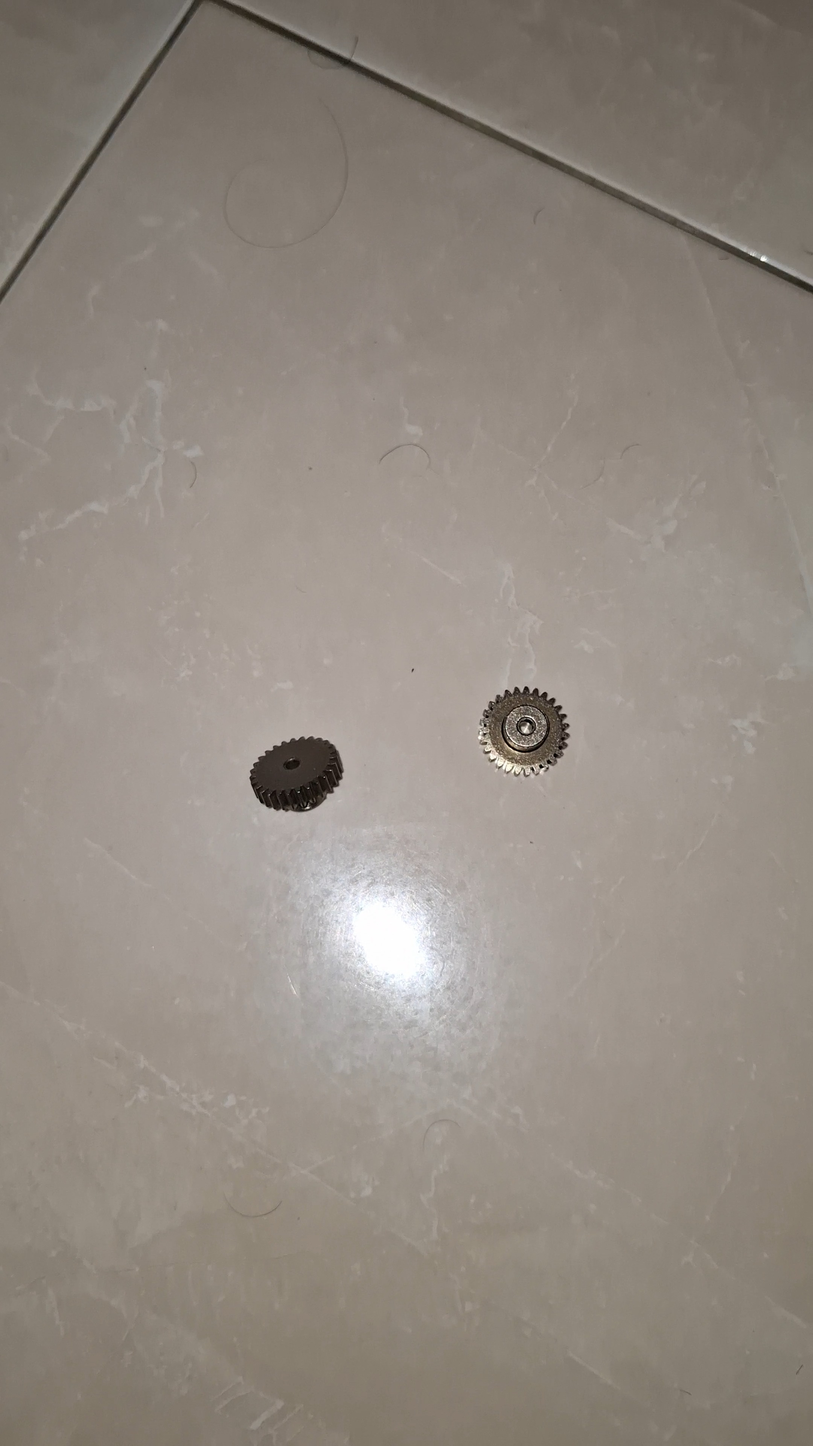spur gear: (479, 687, 568, 775), (251, 737, 343, 811)
